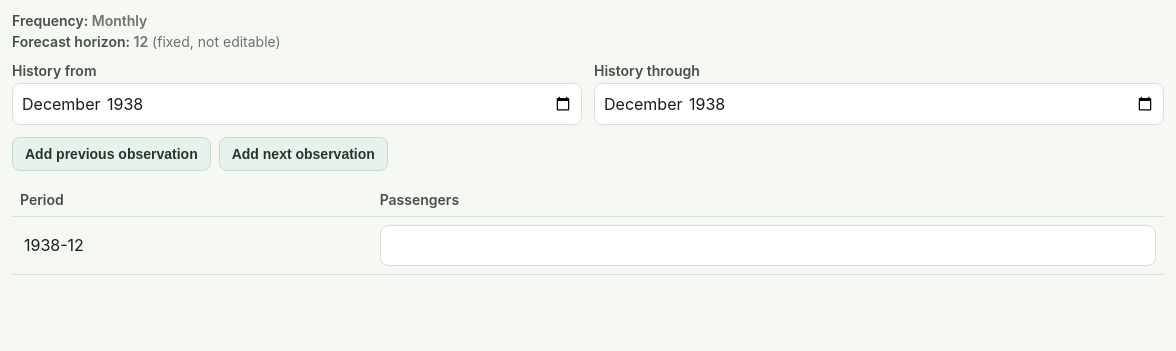
HistorySeriesInput guided month-range builder (Project Spec S0268) › Add previous observation moves the start back exactly one calendar month, crossing a year boundary
Click the button "Add previous observation".
click(111, 154)  # box 12,137 -> 211,171
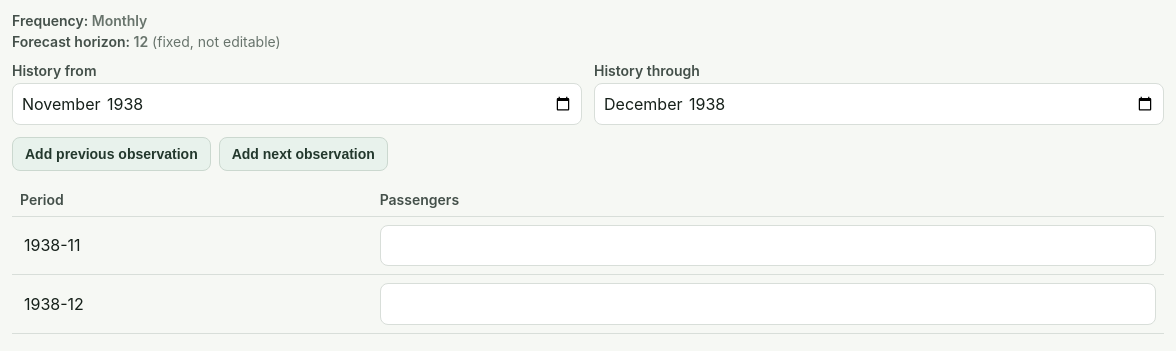
Now the field labelled "History from" holds "1938-11", box 12,83 -> 582,125
Now the number of number fields named "Passengers" is 2, box 380,225 -> 1156,266; 380,283 -> 1156,325
